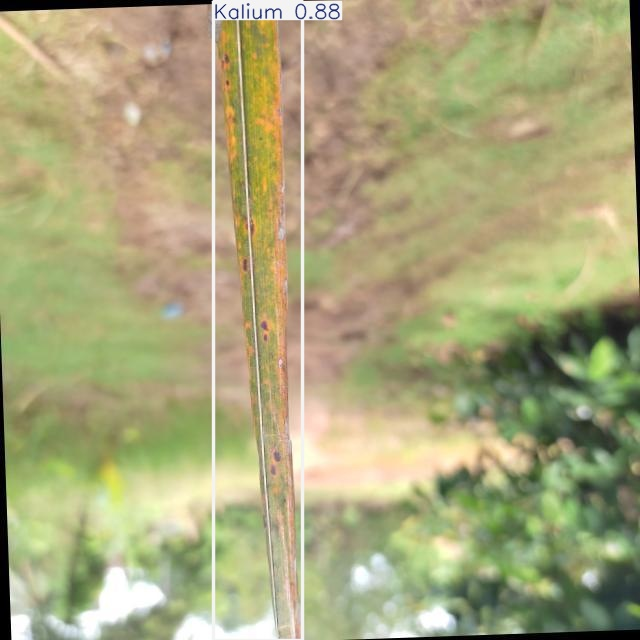Kalium: (213, 2, 303, 640)
